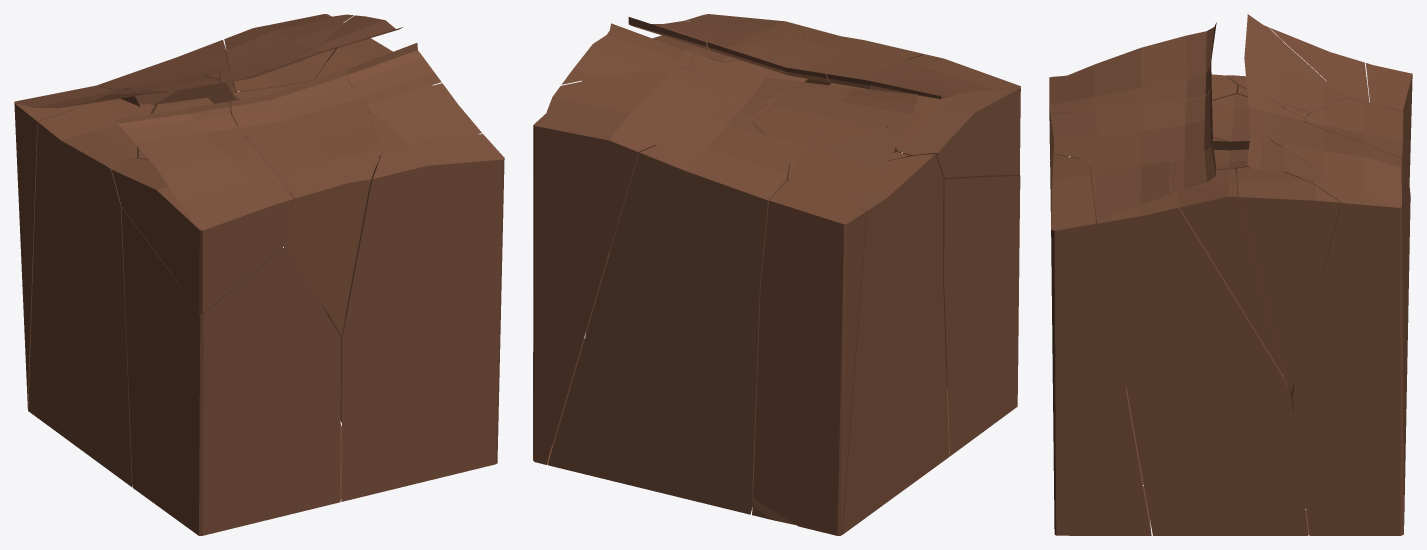
The model's file is CardboardBox_1_Fracture.fbx.
3 views of the same model, side by side, from view 1: azimuth 30°, elevation 25°; view 2: azimuth 150°, elevation 25°; view 3: azimuth 270°, elevation 25° (orthographic). The views are drawn at different scales.
Parts seen in each view (by area): view 1: Cube_cell.017, Cube_cell, Cube_cell.007, Cube_cell.008, Cube_cell.018, Cube_cell.021, Cube_cell.011, Cube_cell.005, Cube_cell.010, Cube_cell.001, Cube_cell.003, Cube_cell.004 (+4 smaller); view 2: Cube_cell.001, Cube_cell.010, Cube_cell.011, Cube_cell.007, Cube_cell.017, Cube_cell.008, Cube_cell.009, Cube_cell.018, Cube_cell.014, Cube_cell.004, Cube_cell.020, Cube_cell.005 (+3 smaller); view 3: Cube_cell.005, Cube_cell.011, Cube_cell, Cube_cell.013, Cube_cell.008, Cube_cell.018, Cube_cell.012, Cube_cell.001, Cube_cell.009, Cube_cell.014, Cube_cell.010, Cube_cell.004 (+5 smaller).
Boxes of the visible parts, left/top/right/bottom form: Cube_cell.017: left=121, top=208, right=340, bottom=535; Cube_cell: left=341, top=134, right=504, bottom=501; Cube_cell.007: left=28, top=98, right=150, bottom=486; Cube_cell.008: left=111, top=101, right=293, bottom=313; Cube_cell.018: left=231, top=69, right=380, bottom=198; Cube_cell.021: left=287, top=179, right=371, bottom=335; Cube_cell.011: left=224, top=14, right=353, bottom=316; Cube_cell.005: left=329, top=83, right=481, bottom=423; Cube_cell.010: left=14, top=85, right=110, bottom=410; Cube_cell.001: left=97, top=40, right=282, bottom=315; Cube_cell.003: left=346, top=43, right=441, bottom=103; Cube_cell.004: left=310, top=15, right=402, bottom=54; Cube_cell.001: left=548, top=112, right=789, bottom=514; Cube_cell.010: left=753, top=180, right=867, bottom=535; Cube_cell.011: left=533, top=68, right=730, bottom=464; Cube_cell.007: left=752, top=153, right=949, bottom=534; Cube_cell.017: left=902, top=153, right=1020, bottom=456; Cube_cell.008: left=826, top=54, right=1020, bottom=177; Cube_cell.009: left=752, top=81, right=917, bottom=161; Cube_cell.018: left=707, top=35, right=923, bottom=82; Cube_cell.014: left=787, top=119, right=910, bottom=194; Cube_cell.004: left=562, top=23, right=693, bottom=84; Cube_cell.020: left=691, top=54, right=796, bottom=114; Cube_cell.005: left=585, top=21, right=793, bottom=336; Cube_cell.005: left=1090, top=161, right=1308, bottom=535; Cube_cell.011: left=1267, top=123, right=1404, bottom=535; Cube_cell: left=1050, top=154, right=1151, bottom=535; Cube_cell.013: left=1236, top=166, right=1341, bottom=392; Cube_cell.008: left=1049, top=22, right=1237, bottom=159; Cube_cell.018: left=1050, top=87, right=1212, bottom=161; Cube_cell.012: left=1179, top=168, right=1282, bottom=374; Cube_cell.001: left=1293, top=98, right=1410, bottom=508; Cube_cell.009: left=1244, top=14, right=1346, bottom=111; Cube_cell.014: left=1269, top=27, right=1369, bottom=101; Cube_cell.010: left=1365, top=63, right=1412, bottom=196; Cube_cell.004: left=1247, top=133, right=1344, bottom=188.
Size of the model in its own units: 61.06 by 68.88 by 60.43.
